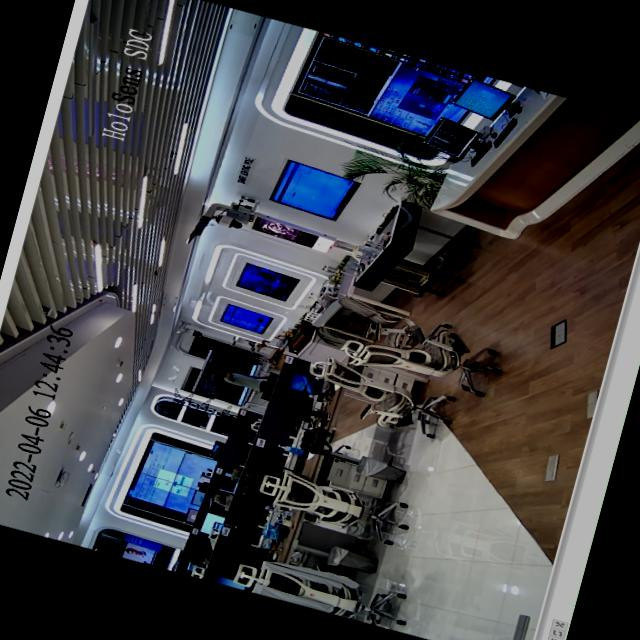long weapon: (212, 359, 241, 379)
